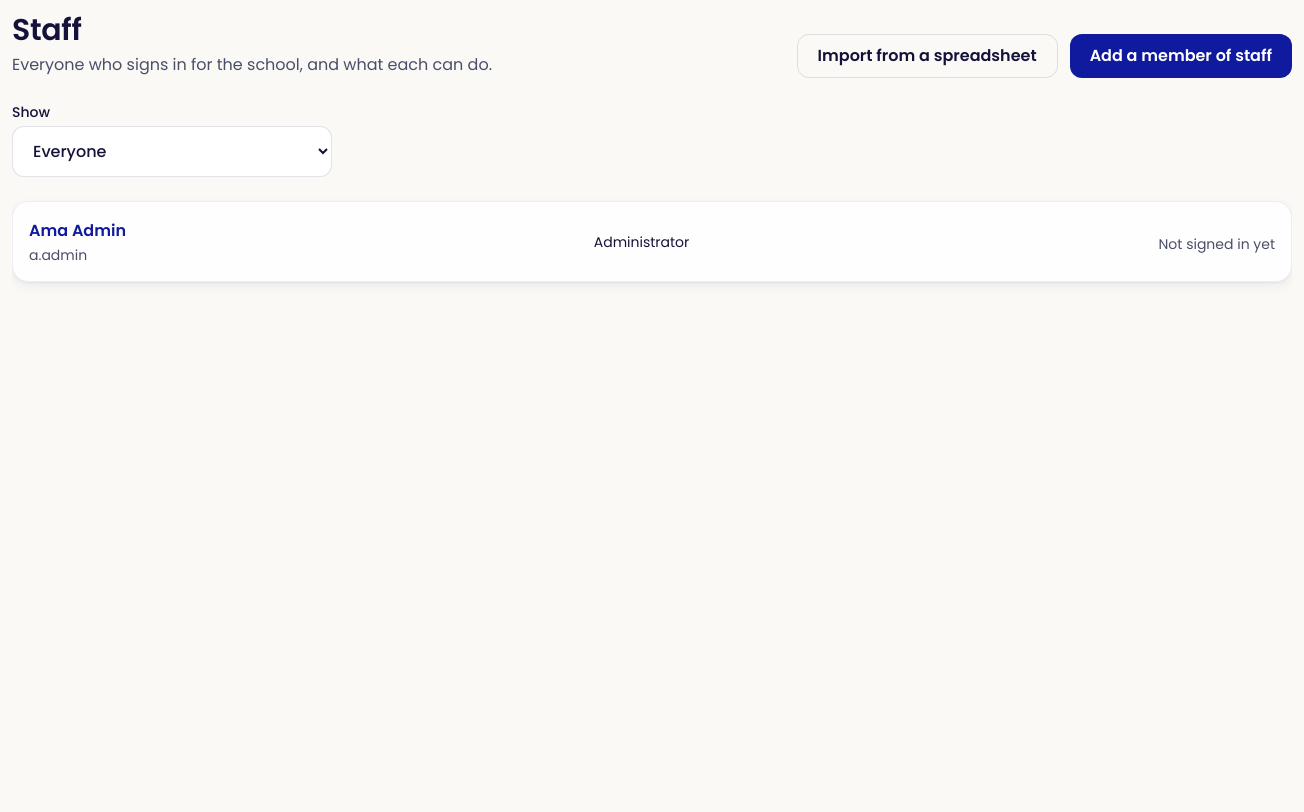
Test: StaffView › adds a member of staff and shows the one-time password once
Step 1. Click the button "Add a member of staff" → click(1181, 56), box left=1070, top=34, right=1292, bottom=78
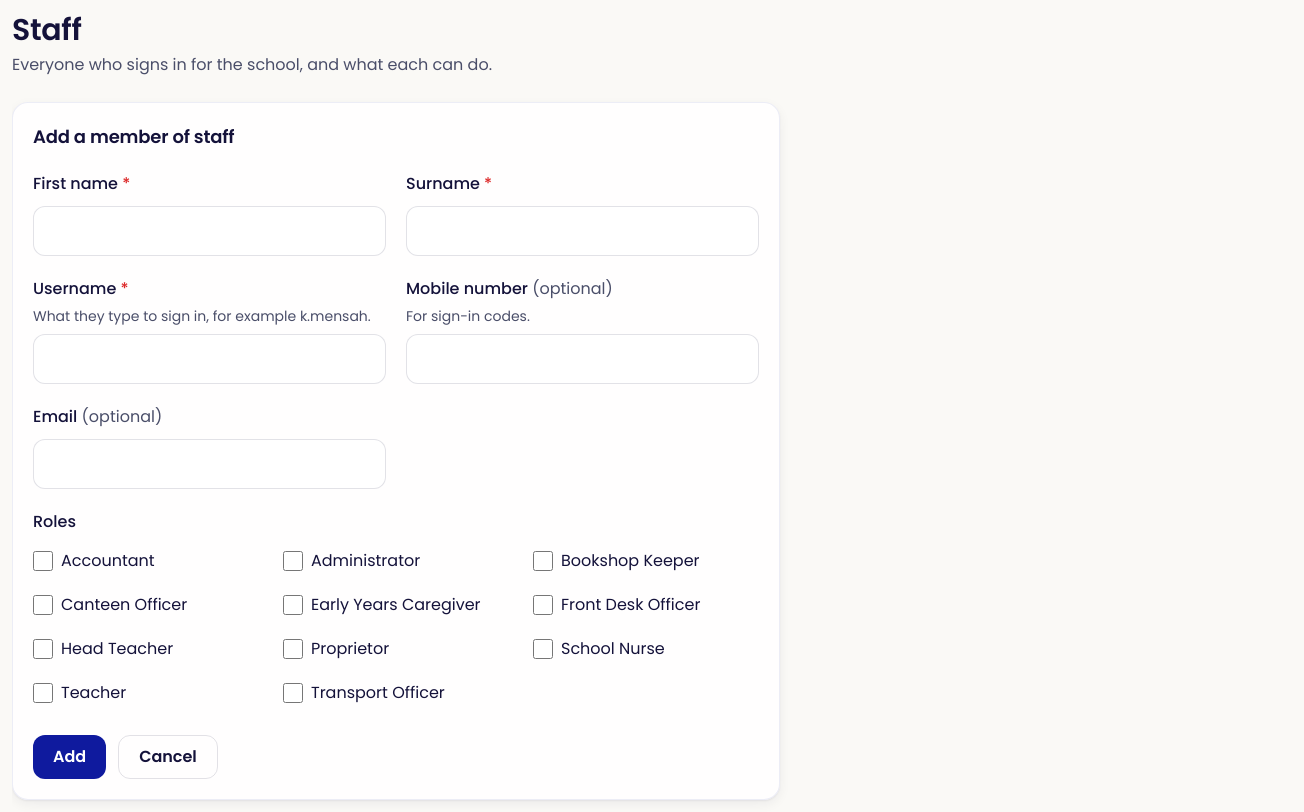
Step 2. Type "Kofi" into the field labelled "First name *" → (210, 231), box left=33, top=206, right=386, bottom=256
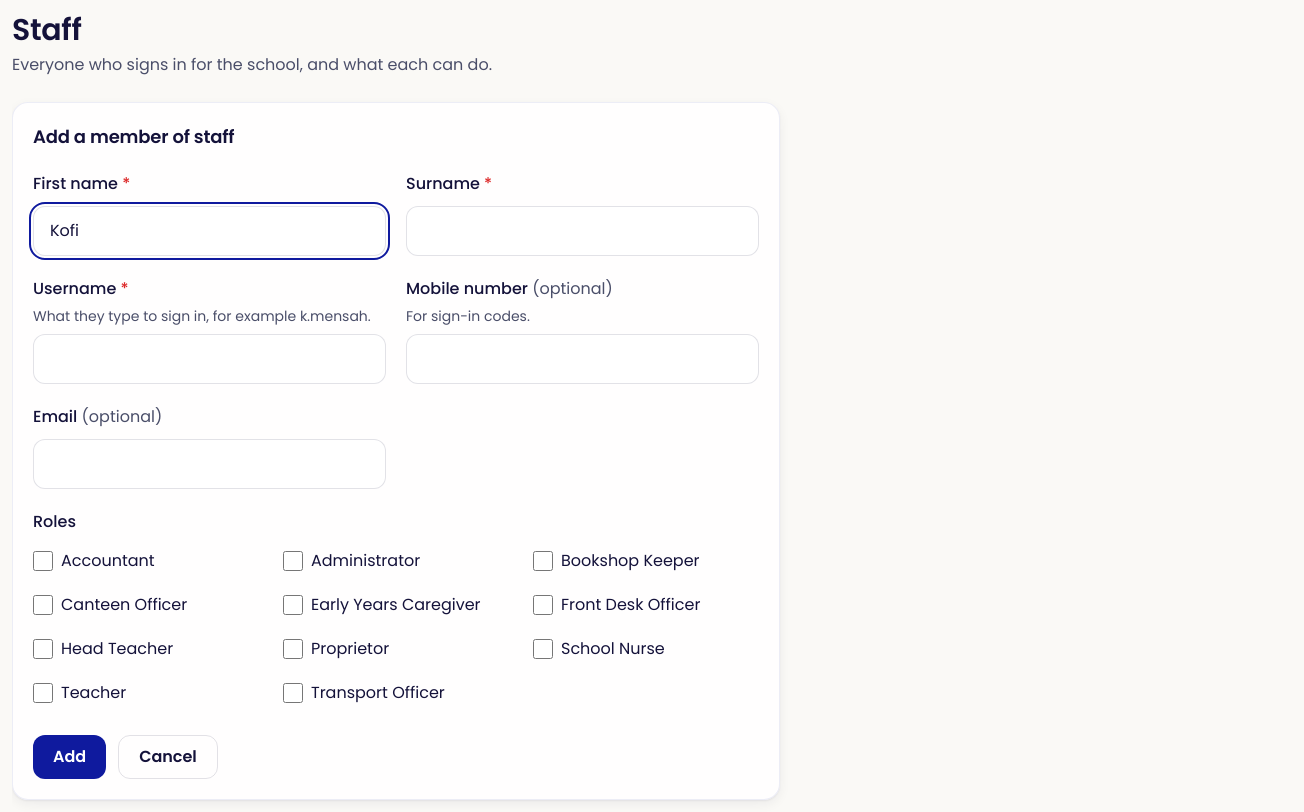
Step 3. Type "Teacher" into the field labelled "Surname *" → (582, 231), box left=406, top=206, right=759, bottom=256
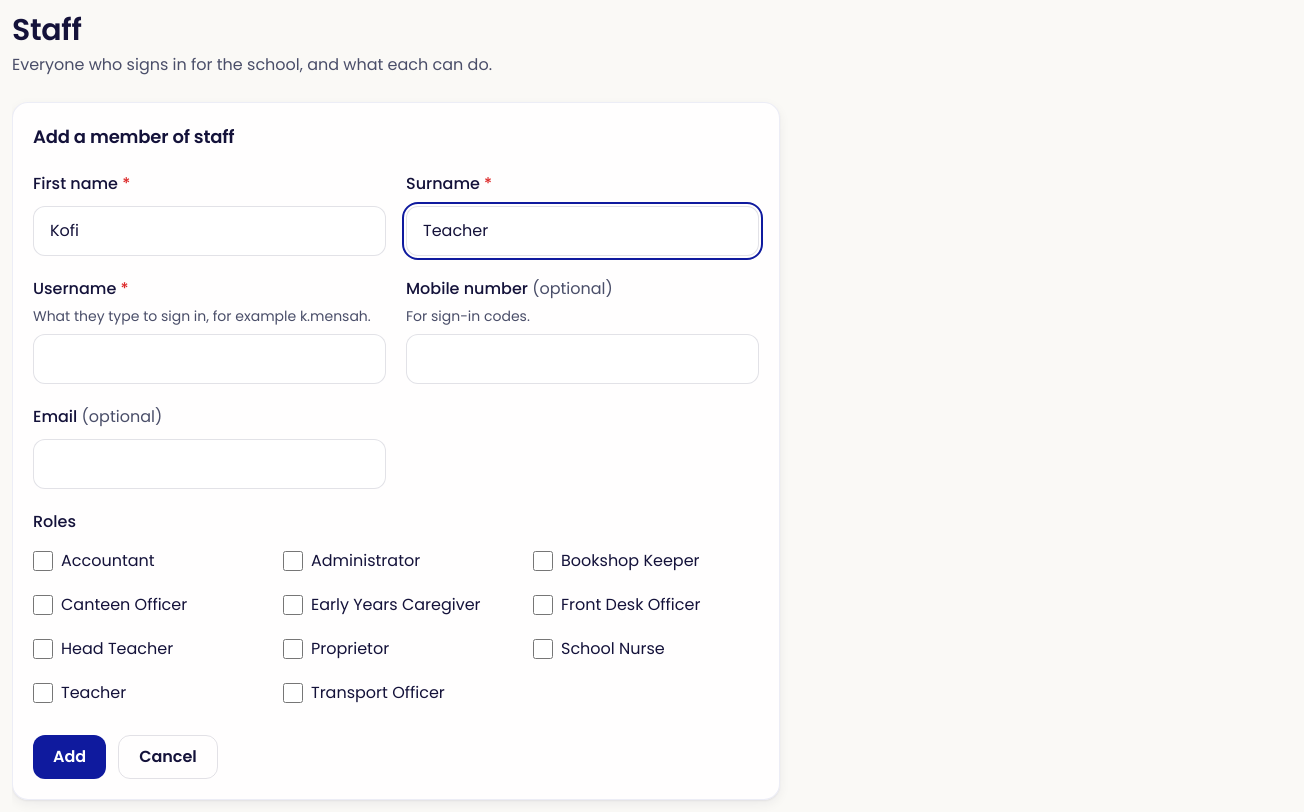
Step 4. Type "kofi" into the field labelled "Username *" → (210, 359), box left=33, top=334, right=386, bottom=384
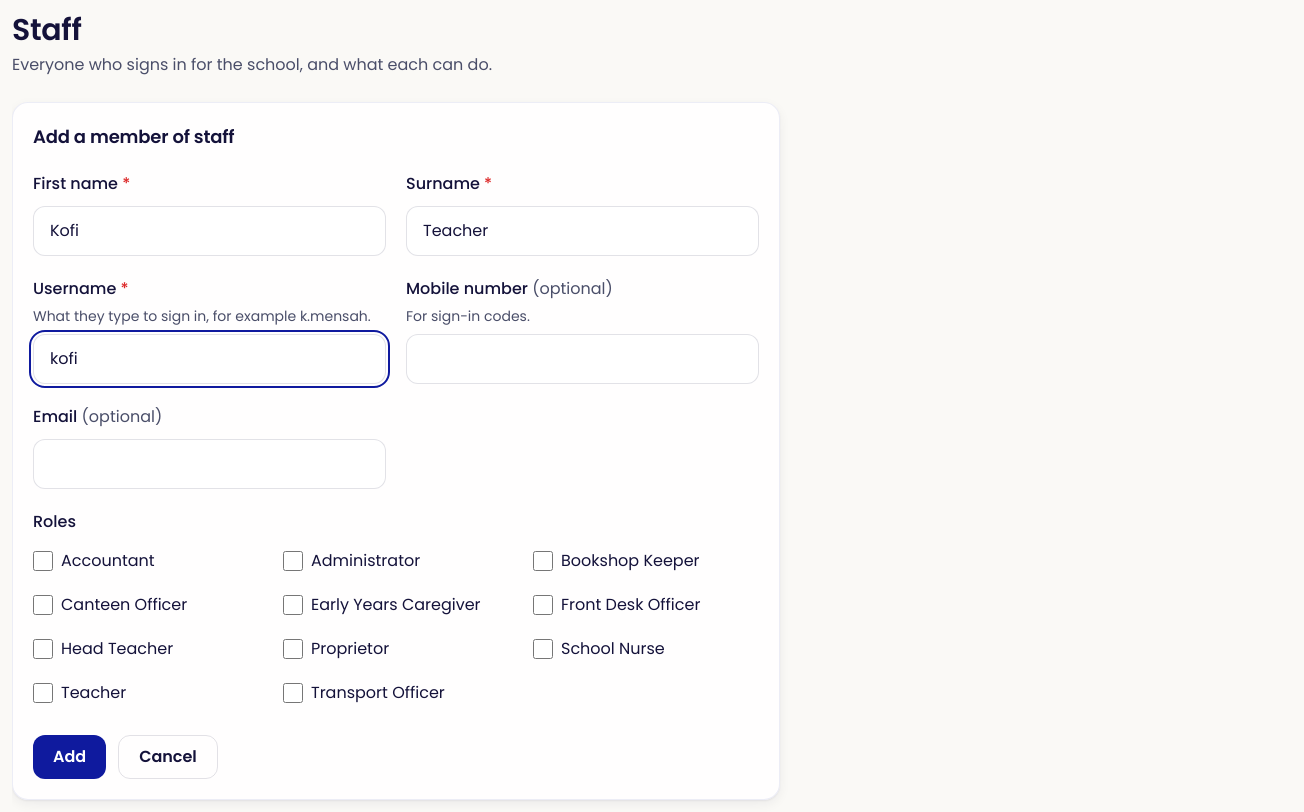
Step 5. Click the checkbox labelled "Teacher" → click(43, 693), box left=33, top=683, right=53, bottom=703
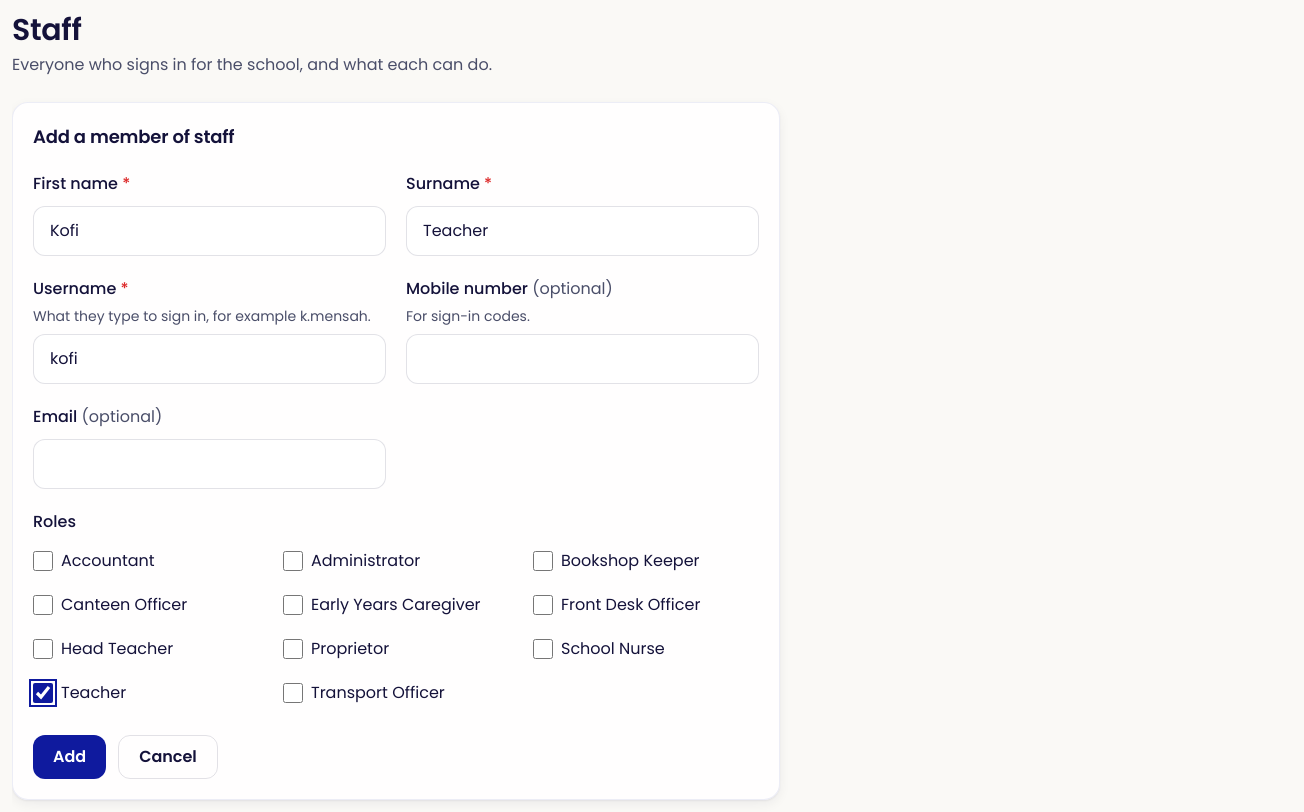
Step 6. Click the button "Add" → click(70, 757), box left=33, top=735, right=106, bottom=779
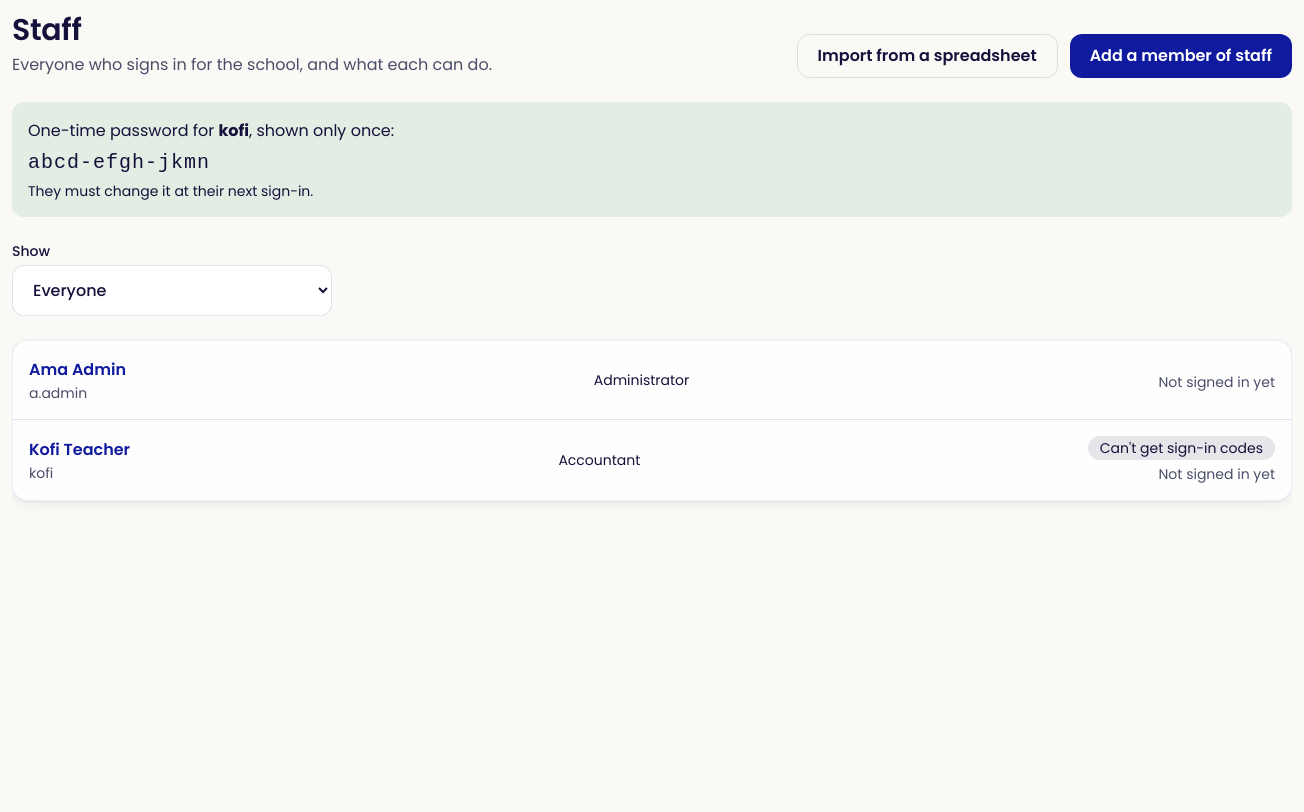
expect the text with test id "one-time-password" reads "abcd-efgh-jkmn": met, box left=28, top=151, right=210, bottom=174
expect the link "Kofi Teacher" is shown: met, box left=29, top=438, right=130, bottom=461
